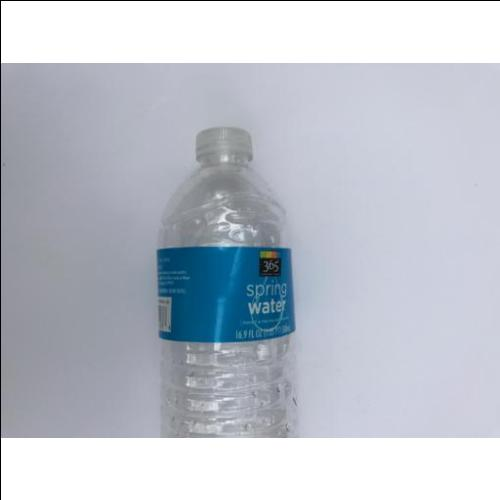plastic: (156, 127, 300, 438)
